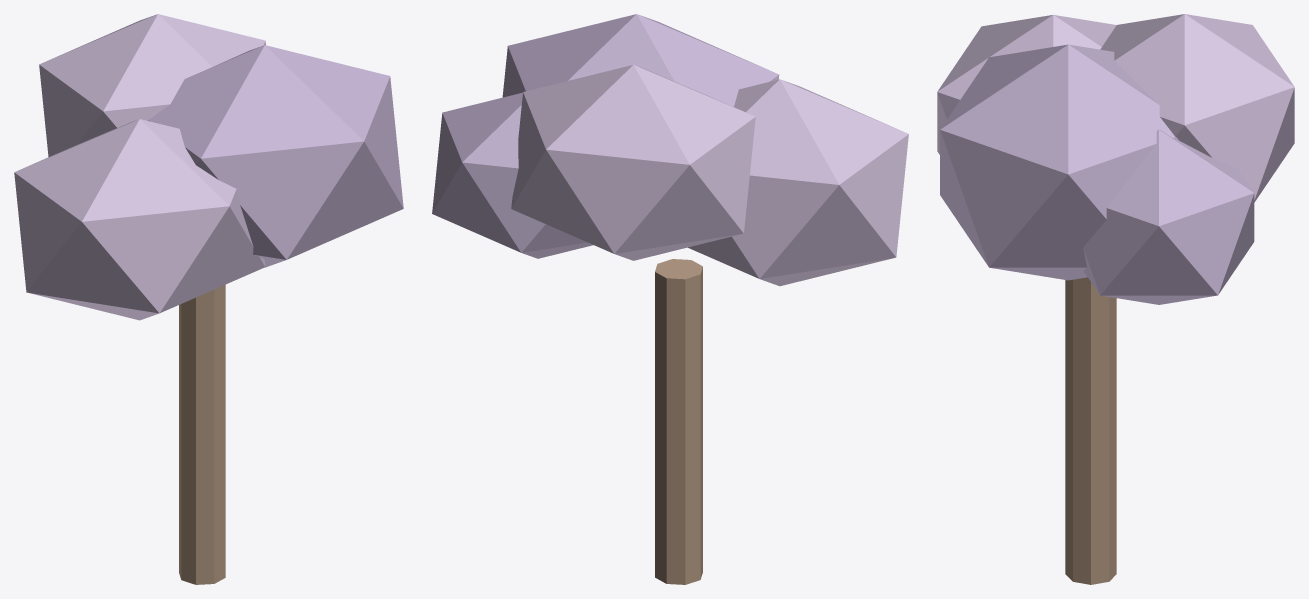
File: jacaranda.glb
3 renders of one model, left to right at view 1: azimuth 30°, elevation 25°; view 2: azimuth 150°, elevation 25°; view 3: azimuth 270°, elevation 25°, orthographic. The views are drawn at different scales.
Visible parts, largest first — view 1: purple_canopy_1, purple_canopy_0, purple_canopy_2, trunk; view 2: purple_canopy_2, purple_canopy_0, trunk, purple_canopy_1, purple_canopy_3; view 3: purple_canopy_1, purple_canopy_3, purple_canopy_2, trunk, purple_canopy_0.
Part boxes in pixels (x1,y1,x2,y2): purple_canopy_1: [148, 45, 403, 267]; purple_canopy_0: [14, 119, 265, 320]; purple_canopy_2: [39, 14, 265, 156]; trunk: [179, 284, 225, 584]; purple_canopy_2: [511, 65, 755, 260]; purple_canopy_0: [688, 79, 908, 286]; trunk: [655, 259, 702, 584]; purple_canopy_1: [502, 14, 779, 106]; purple_canopy_3: [432, 92, 593, 258]; purple_canopy_1: [940, 44, 1178, 280]; purple_canopy_3: [1083, 129, 1254, 304]; purple_canopy_2: [1100, 14, 1294, 202]; trunk: [1065, 277, 1116, 584]; purple_canopy_0: [937, 15, 1116, 154].
Size of the model in its own units: 3.17 by 4.09 by 2.36.
